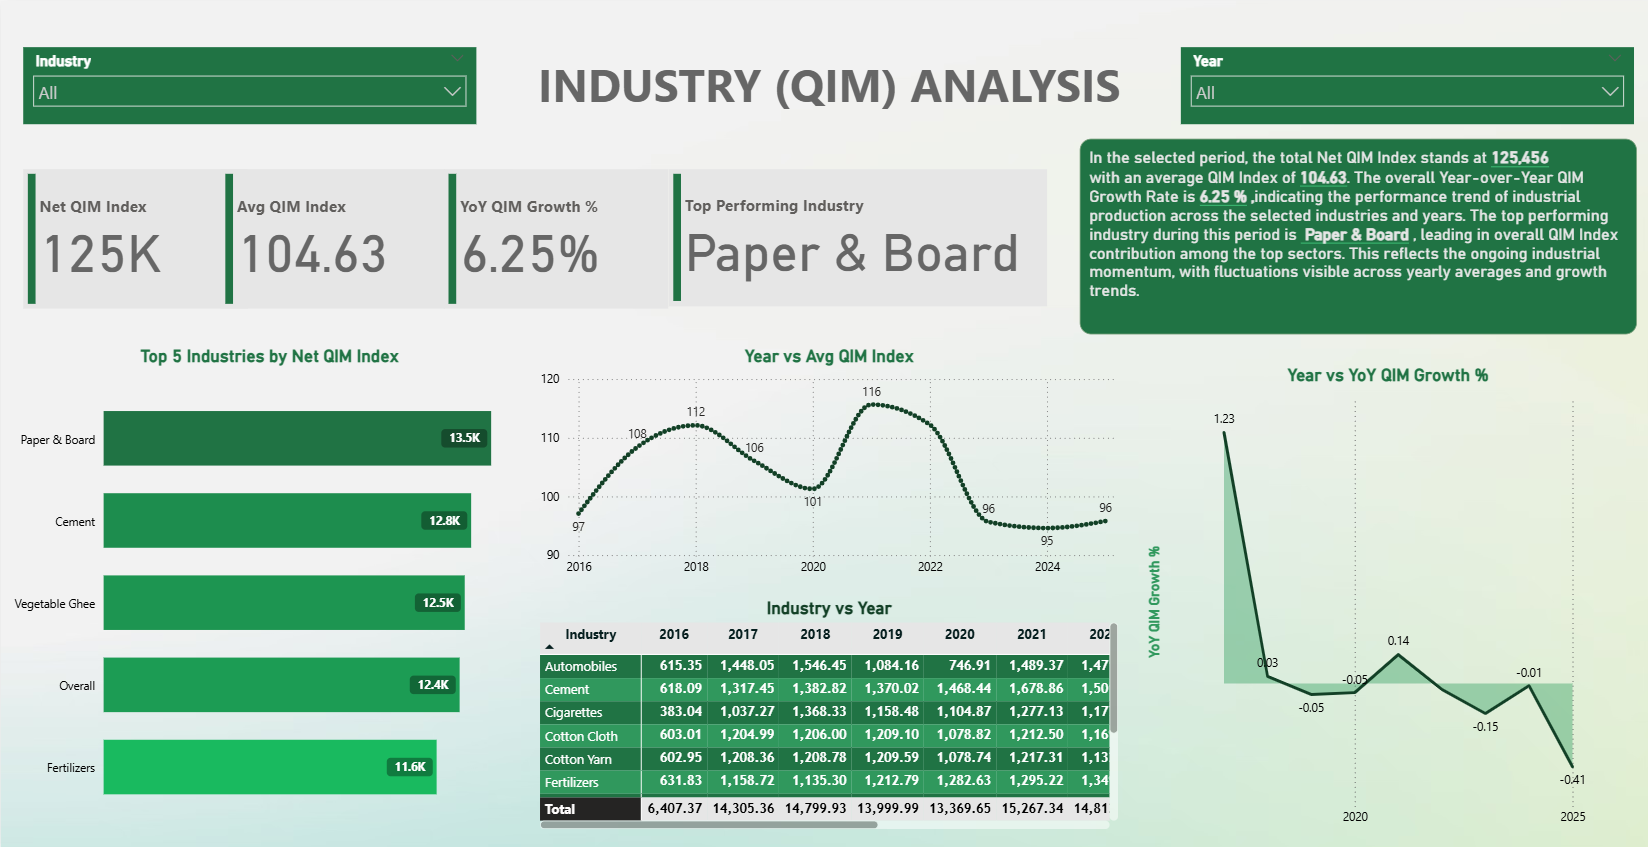

The page's visual inventory and layout, read from the dashboard file:
{"tool":"powerbi","page":{"name":"INDUSTRY (QIM) ANALYSIS","canvas":[1720,880],"ordinal":2},"visuals":[{"type":"cardVisual","fields":{"Data":["Dim_Date.Total QIM Index"]},"box":[22.5,175,232.5,145],"z":0},{"type":"cardVisual","fields":{"Data":["Dim_Date.Avg QIM Index"]},"box":[227.5,175,232.5,145],"z":1000},{"type":"cardVisual","fields":{"Data":["Dim_Date.Top Performing Industry"]},"box":[692.5,175,392.5,142.5],"z":2000},{"type":"shape","box":[533.3,20,653.3,133.3],"z":3000},{"type":"lineChart","title":"Year vs Avg QIM Index","fields":{"Category":["Dim_Date.Year"],"Y":["Avg(Fact_QIM.Index Value)"]},"box":[555,357.5,610,247.5],"z":4000},{"type":"slicer","fields":{"Values":["Dim_Industry.Industry"]},"box":[22.5,47.5,470,80],"z":5000},{"type":"slicer","fields":{"Values":["Dim_Date.Year"]},"box":[1225,47.5,470,80],"z":6000},{"type":"areaChart","title":"Year vs YoY QIM Growth % ","fields":{"Category":["Dim_Date.Year"],"Y":["Dim_Date.YoY QIM Growth %"]},"box":[1185,377.5,510,487.5],"z":7000},{"type":"clusteredBarChart","title":"Top 5 Industries by Net QIM Index","fields":{"Category":["Dim_Industry.Industry"],"Y":["Dim_Date.Total QIM Index"]},"box":[0,358,558,508],"z":8000},{"type":"pivotTable","title":"Industry vs Year","fields":{"Rows":["Dim_Industry.Industry"],"Columns":["Dim_Date.Year"],"Values":["Dim_Date.Total QIM Index"]},"box":[555,620,610,245],"z":9000},{"type":"cardVisual","fields":{"Data":["Dim_Date.YoY QIM Growth %"]},"box":[460,175,232.5,145],"z":10000},{"type":"textbox","box":[1120,143,578,203],"z":11000}]}

Visuals, with their boxes in screenshot pixels (x1, y1, x2, y2), scaled from the page's 1720x880 canvas onto the 1648x847 screenshot:
cardVisual - Dim_Date.Total QIM Index: l=22, t=168, r=244, b=308
cardVisual - Dim_Date.Avg QIM Index: l=218, t=168, r=441, b=308
cardVisual - Dim_Date.Top Performing Industry: l=664, t=168, r=1040, b=306
shape: l=511, t=19, r=1137, b=148
"Year vs Avg QIM Index" lineChart: l=532, t=344, r=1116, b=582
slicer - Dim_Industry.Industry: l=22, t=46, r=472, b=123
slicer - Dim_Date.Year: l=1174, t=46, r=1624, b=123
"Year vs YoY QIM Growth % " areaChart: l=1135, t=363, r=1624, b=833
"Top 5 Industries by Net QIM Index" clusteredBarChart: l=0, t=345, r=535, b=834
"Industry vs Year" pivotTable: l=532, t=597, r=1116, b=833
cardVisual - Dim_Date.YoY QIM Growth %: l=441, t=168, r=664, b=308
textbox: l=1073, t=138, r=1627, b=333
